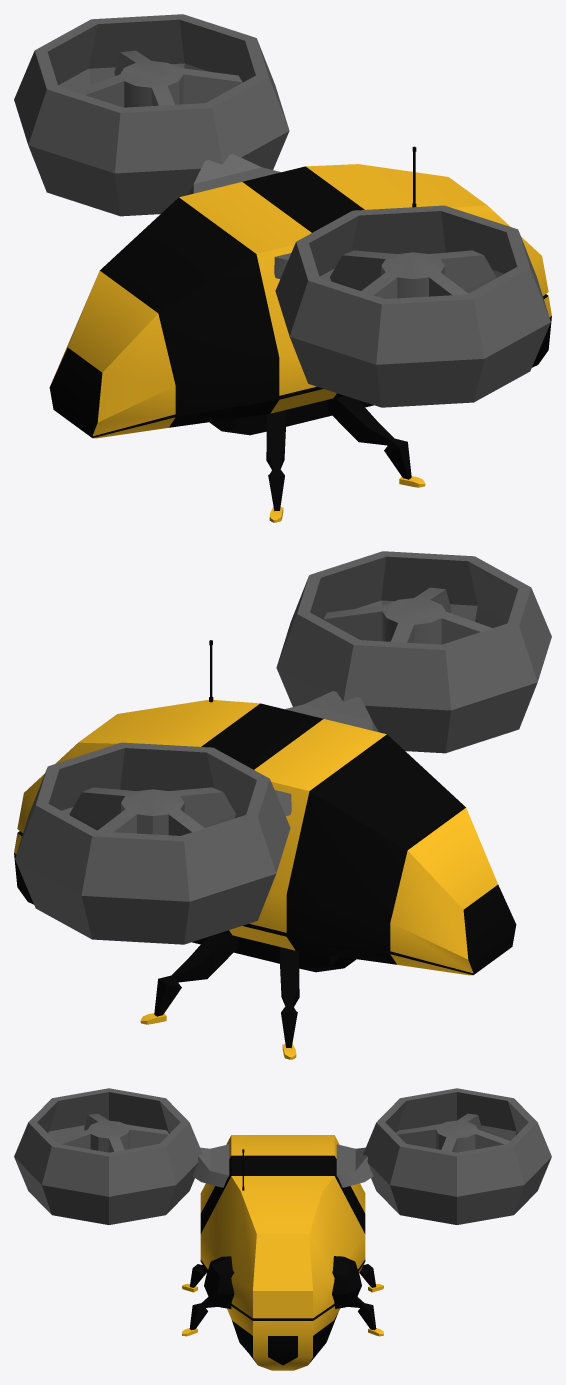
File: beecopter.fbx
3 views of the same model, one above another, from view 1: azimuth 30°, elevation 25°; view 2: azimuth 150°, elevation 25°; view 3: azimuth 270°, elevation 25° (orthographic). The views are drawn at different scales.
Parts seen in each view (by area): view 1: Beecopter_Body.001; view 2: Beecopter_Body.001; view 3: Beecopter_Body.001.
Part boxes in pixels (bbox=[...]): Beecopter_Body.001: bbox=[14, 14, 551, 522]; Beecopter_Body.001: bbox=[14, 551, 551, 1059]; Beecopter_Body.001: bbox=[14, 1088, 551, 1370].
Size of the model in its own units: 319 by 198 by 488.
